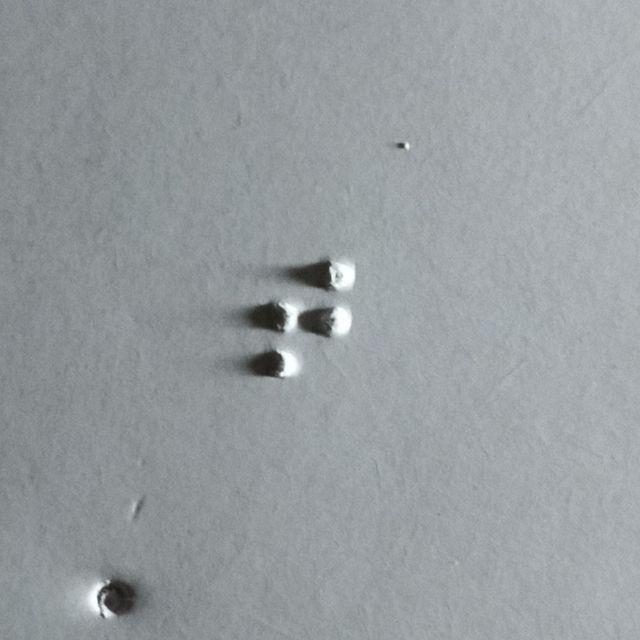t: (262, 256, 352, 379)
